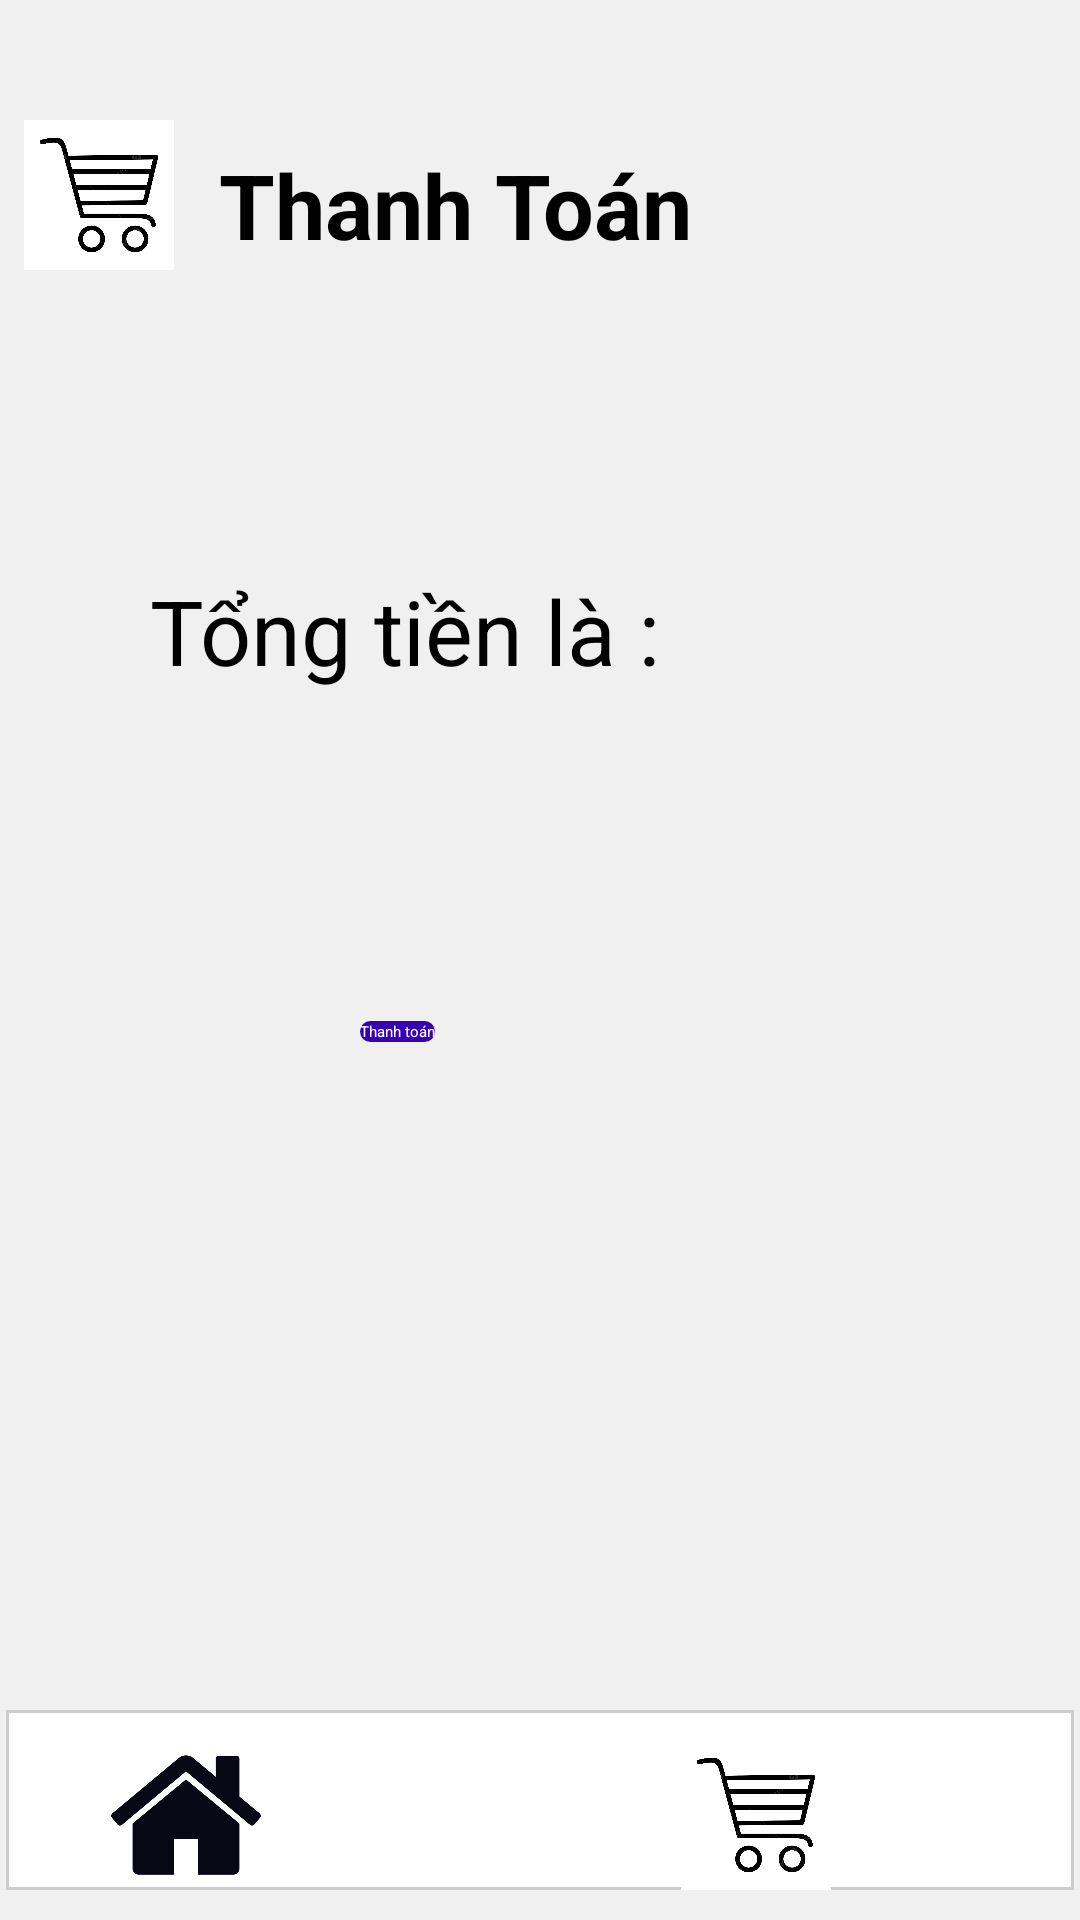

Screen size 1080 x 1920. Icon name, then its box in pixels as (x1, y1, x2, y2):
gio hang: (24, 120, 174, 270), (697, 1758, 815, 1872)
home: (111, 1755, 261, 1875)
